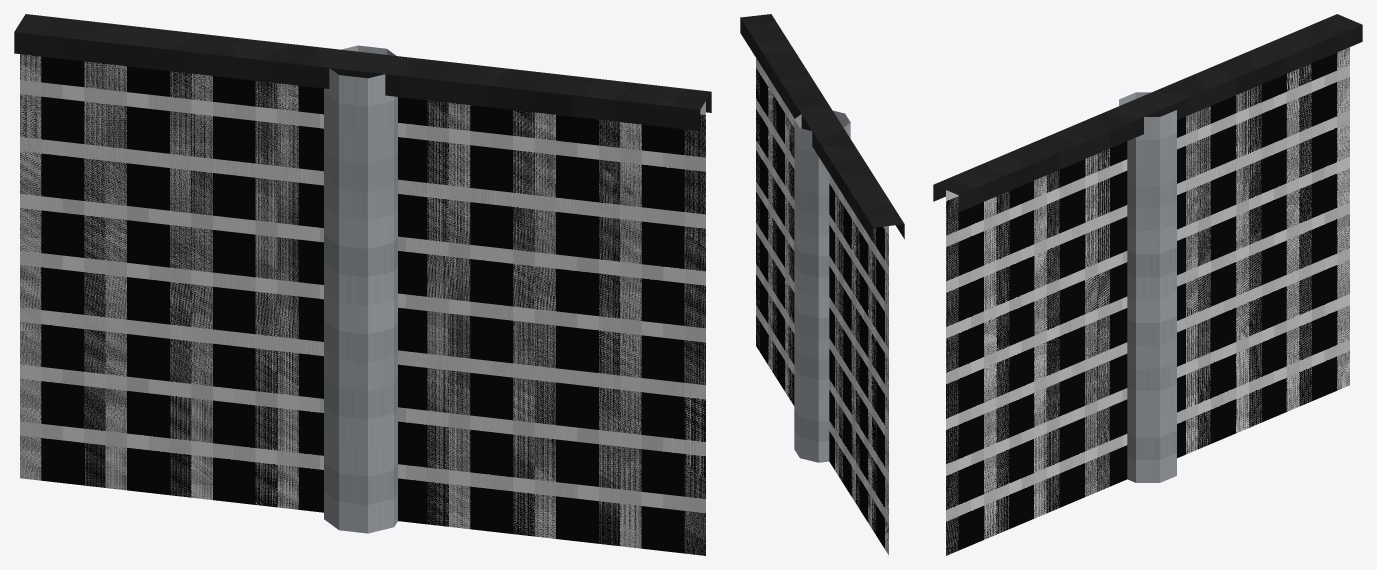
The model's file is net_diagonal_11.obj.
3 views of the same model, side by side, from view 1: azimuth 30°, elevation 25°; view 2: azimuth 150°, elevation 25°; view 3: azimuth 270°, elevation 25° (orthographic). The views are drawn at different scales.
Visible parts, largest first — view 1: net_diagonal_11; view 2: net_diagonal_11; view 3: net_diagonal_11.
Part boxes in pixels (x1=…): net_diagonal_11: x1=14, y1=14, x2=711, y2=555; net_diagonal_11: x1=740, y1=14, x2=904, y2=555; net_diagonal_11: x1=933, y1=14, x2=1362, y2=555.
Bounding box in the file's own units: 1.06 × 1 × 1.06.
